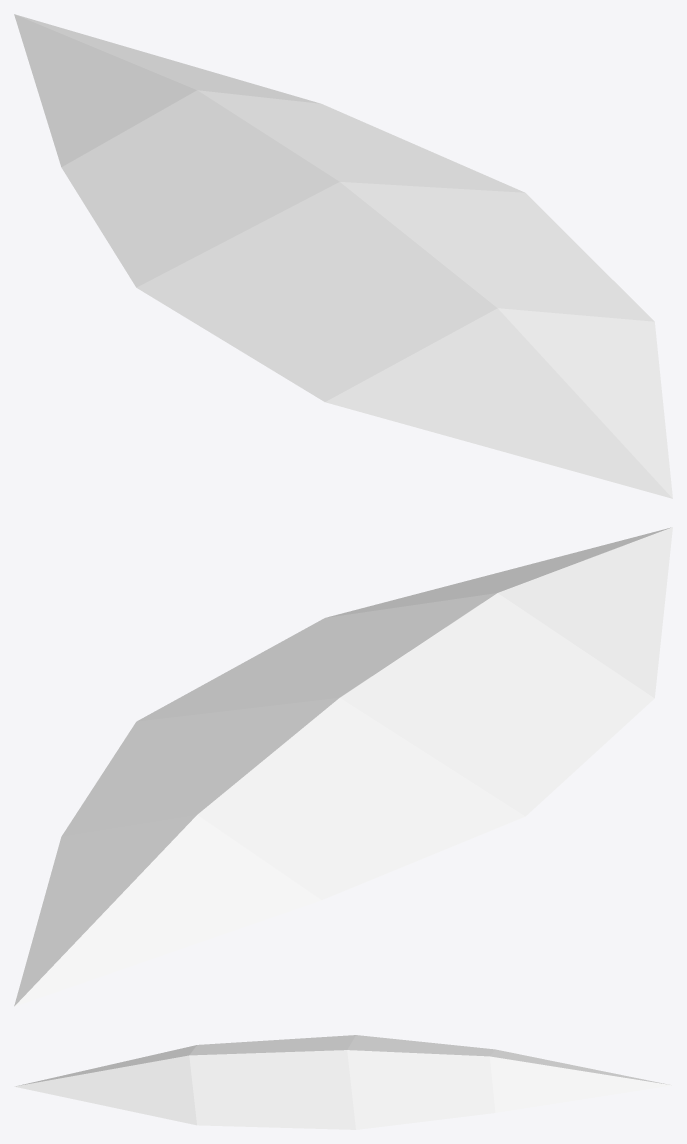
The model's file is Palm_Leave_OneSided_Snow_02.fbx.
3 renders of one model, top to bottom at view 1: azimuth 30°, elevation 25°; view 2: azimuth 150°, elevation 25°; view 3: azimuth 270°, elevation 25°, orthographic. The views are drawn at different scales.
Parts seen in each view (by area): view 1: Palm_Leave_OneSided_Snow_02; view 2: Palm_Leave_OneSided_Snow_02; view 3: Palm_Leave_OneSided_Snow_02.
Boxes of the visible parts, <box> form: Palm_Leave_OneSided_Snow_02: <box>14,14,672,498</box>; Palm_Leave_OneSided_Snow_02: <box>14,527,672,1006</box>; Palm_Leave_OneSided_Snow_02: <box>15,1035,671,1129</box>.
Bounding box in the file's own units: 119 × 21.35 × 348.
